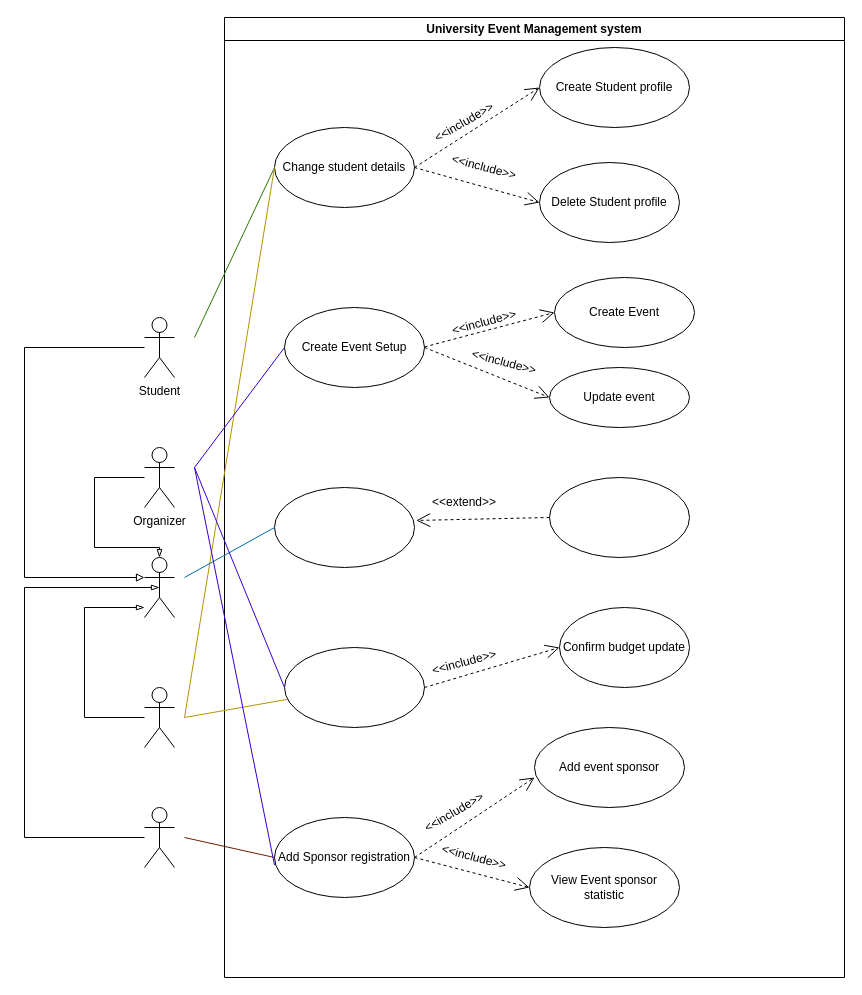
Image size: 862x995. Some labels were removed from this diagram. Each missing label, with the centre of its shape:
"Admin" belongs at pixel 159 717.
"Password Reset" belongs at pixel 619 517.
"Sponsors" belongs at pixel 159 837.
"Update Event Budget" belongs at pixel 354 687.
"Update platform accessibility" belongs at pixel 344 527.
"User" belongs at pixel 159 587.
